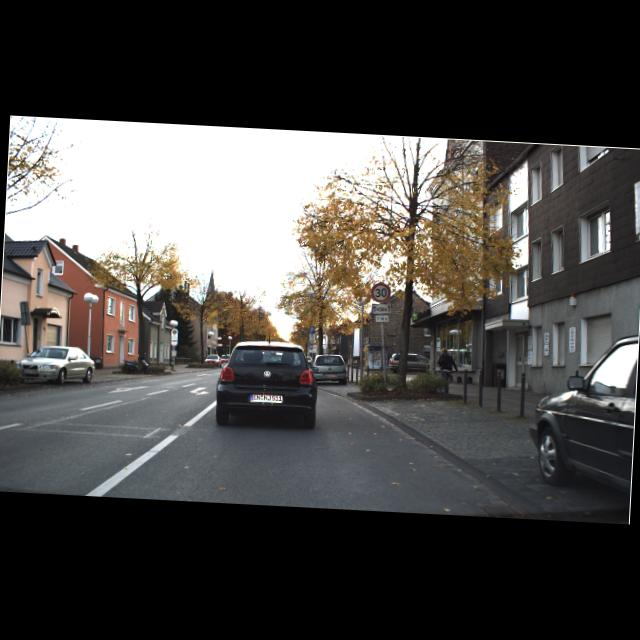prohibitory: (370, 282, 391, 304)
